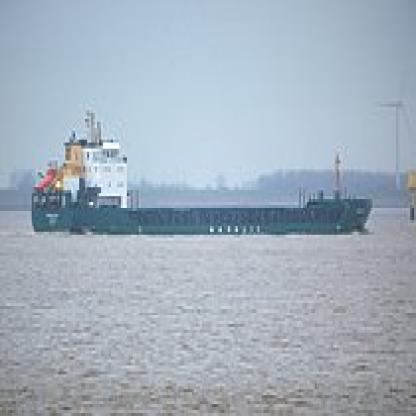Tanker: (32, 98, 378, 235)
